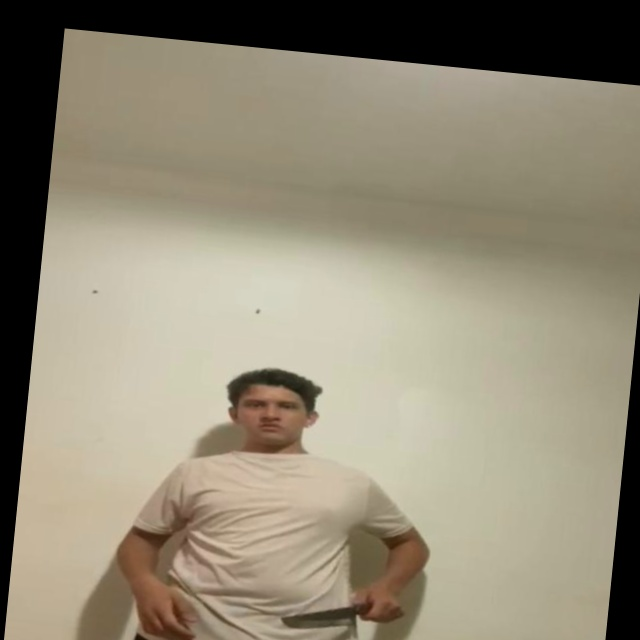Sharp-Object: (281, 597, 354, 635)
